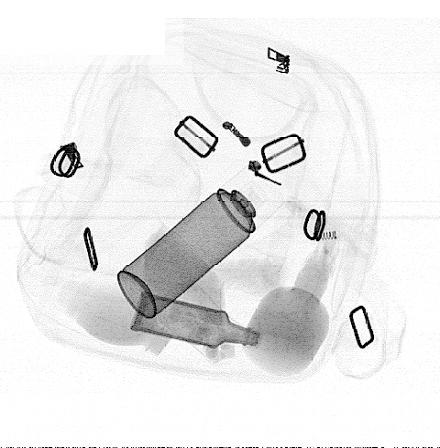Sprayer: (117, 160, 285, 319)
